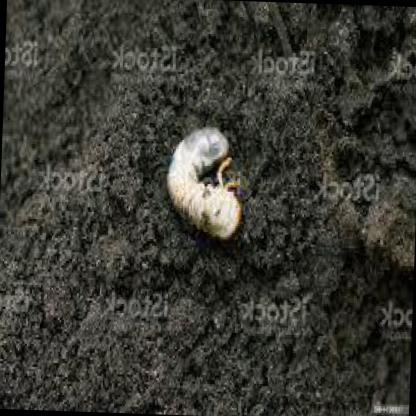root grubs: (167, 125, 241, 240)
